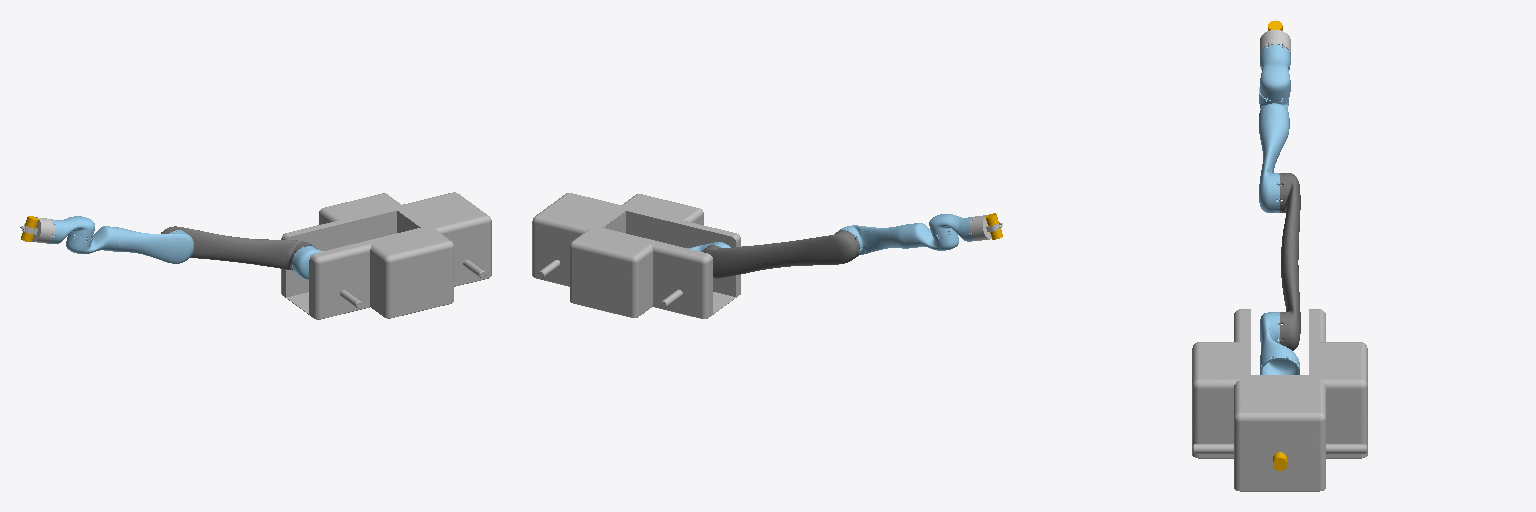
--- What the picture shows (computed from the rendered views, not written in the file) ---
The picture shows the robot from 3 angles, left to right: view 1: azimuth 30°, elevation 25°; view 2: azimuth 150°, elevation 25°; view 3: azimuth 270°, elevation 25°; orthographic projection.
Model mira with 17 links and 16 joints (5 revolute, 5 continuous, 6 fixed), rooted at base_link, posed all joints at 0.
Visible links, largest first — view 1: mobile_base_chassis, kinova_link2, kinova_link3, kinova_link4, kinova_link5; view 2: mobile_base_chassis, kinova_link2, kinova_link3, kinova_link4, kinova_link5; view 3: mobile_base_chassis, kinova_link2, kinova_link3, kinova_link1, kinova_link5.
Boxes of the visible links, box(x1,y1,x2,y2) form: mobile_base_chassis: box(281, 192, 491, 319); kinova_link2: box(161, 226, 316, 270); kinova_link3: box(113, 227, 193, 263); kinova_link4: box(66, 226, 120, 253); kinova_link5: box(47, 216, 94, 243); mobile_base_chassis: box(532, 193, 740, 318); kinova_link2: box(702, 230, 859, 278); kinova_link3: box(839, 224, 910, 256); kinova_link4: box(905, 223, 958, 250); kinova_link5: box(929, 214, 975, 241); mobile_base_chassis: box(1192, 309, 1367, 491); kinova_link2: box(1280, 173, 1300, 350); kinova_link3: box(1259, 112, 1289, 212); kinova_link1: box(1260, 312, 1299, 374); kinova_link5: box(1260, 44, 1290, 100).
Bounding box of the posed robot: 1.38 × 0.36 × 0.4471 m (x, y, z).
Meshes: 9 distinct files referenced, 7 mesh visuals loaded (6 binary STL); not drawn: 5 (reference not matched to a file when rendering).

URDF robot description (mira):
<?xml version="1.0" ?>
<!-- =================================================================================== -->
<!-- |    This document was autogenerated by xacro from mira.xacro                     | -->
<!-- |    EDITING THIS FILE BY HAND IS NOT RECOMMENDED                                 | -->
<!-- =================================================================================== -->
<robot name="mira">
  <link name="mobile_base_base_link"/>
  <joint name="mobile_base_base_link_to_base" type="fixed">
    <parent link="mobile_base_base_link"/>
    <child link="mobile_base_chassis"/>
    <origin rpy="1.5707963267948966 0 0" xyz="0 0 0"/>
  </joint>
  <link name="mobile_base_chassis">
    <visual>
      <origin rpy="0 -0 0" xyz="0 0 0"/>
      <geometry>
        <mesh filename="package://sps/urdf/mobile_base_models/chassis.stl"/>
      </geometry>
      <material name="chassis_material">
        <color rgba="0.74902 0.74902 0.74902 1.0"/>
      </material>
    </visual>
    <collision>
      <geometry>
        <mesh filename="package://sps/urdf/mobile_base_models/chassis.stl"/>
      </geometry>
    </collision>
    <inertial>
      <origin rpy="0 0 0" xyz="3.03885e-10 0.0866061 -4.21983e-12"/>
      <mass value="22"/>
      <inertia ixx="0.254" ixy="-1.648e-9" ixz="-2.434e-08" iyy="0.656" iyz="3.684e-10" izz="0.532"/>
    </inertial>
  </link>
  <gazebo reference="mobile_base_chassis">
    <material>Gazebo/DarkGrey</material>
  </gazebo>
  <joint name="mobile_base_joint_front_dx" type="continuous">
    <origin rpy="0 0 0" xyz="0.183 0.06 0.1355"/>
    <parent link="mobile_base_chassis"/>
    <child link="mobile_base_omniwheel_front_dx"/>
    <axis xyz="0 0 1"/>
    <limit effort="1" velocity="20"/>
    <joint_properties friction="0.0"/>
  </joint>
  <link name="mobile_base_omniwheel_front_dx">
    <visual>
      <origin rpy="3.141592653589793 0 0" xyz="0 0 0"/>
      <geometry>
        <mesh filename="package://sps/urdf/mobile_base_models/omniwheel_A.stl"/>
      </geometry>
    </visual>
    <collision>
      <origin rpy="3.141592653589793 0 0" xyz="0 0 0"/>
      <geometry>
        <cylinder length="0.08" radius="0.076"/>
      </geometry>
    </collision>
    <inertial>
      <origin rpy="0 1.5707963267948966 0" xyz="0 0 0"/>
      <mass value="3.5"/>
      <inertia ixx="0.006920666666666667" ixy="0" ixz="0" iyx="0" iyy="0.006920666666666667" iyz="0" izx="0" izy="0" izz="0.010108"/>
    </inertial>
  </link>
  <gazebo reference="mobile_base_omniwheel_front_dx">
    <material>Gazebo/Orange</material>
  </gazebo>
  <joint name="mobile_base_joint_front_sx" type="continuous">
    <origin rpy="0 0 0" xyz="0.183 0.06 -0.1355"/>
    <parent link="mobile_base_chassis"/>
    <child link="mobile_base_omniwheel_front_sx"/>
    <axis xyz="0 0 1"/>
    <limit effort="1" velocity="20"/>
    <joint_properties friction="0.0"/>
  </joint>
  <link name="mobile_base_omniwheel_front_sx">
    <visual>
      <origin rpy="3.141592653589793 0 0" xyz="0 0 0"/>
      <geometry>
        <mesh filename="package://sps/urdf/mobile_base_models/omniwheel_B.stl"/>
      </geometry>
    </visual>
    <collision>
      <origin rpy="3.141592653589793 0 0" xyz="0 0 0"/>
      <geometry>
        <cylinder length="0.08" radius="0.076"/>
      </geometry>
    </collision>
    <inertial>
      <origin rpy="0 1.5707963267948966 0" xyz="0 0 0"/>
      <mass value="3.5"/>
      <inertia ixx="0.006920666666666667" ixy="0" ixz="0" iyx="0" iyy="0.006920666666666667" iyz="0" izx="0" izy="0" izz="0.010108"/>
    </inertial>
  </link>
  <gazebo reference="mobile_base_omniwheel_front_sx">
    <material>Gazebo/Orange</material>
  </gazebo>
  <joint name="mobile_base_joint_rear_sx" type="continuous">
    <origin rpy="0 0 0" xyz="-0.183 0.06 -0.1355"/>
    <parent link="mobile_base_chassis"/>
    <child link="mobile_base_omniwheel_rear_sx"/>
    <axis xyz="0 0 1"/>
    <limit effort="1" velocity="20"/>
    <joint_properties friction="0.0"/>
  </joint>
  <link name="mobile_base_omniwheel_rear_sx">
    <visual>
      <origin rpy="3.141592653589793 0 0" xyz="0 0 0"/>
      <geometry>
        <mesh filename="package://sps/urdf/mobile_base_models/omniwheel_A.stl"/>
      </geometry>
    </visual>
    <collision>
      <origin rpy="3.141592653589793 0 0" xyz="0 0 0"/>
      <geometry>
        <cylinder length="0.08" radius="0.076"/>
      </geometry>
    </collision>
    <inertial>
      <origin rpy="0 1.5707963267948966 0" xyz="0 0 0"/>
      <mass value="3.5"/>
      <inertia ixx="0.006920666666666667" ixy="0" ixz="0" iyx="0" iyy="0.006920666666666667" iyz="0" izx="0" izy="0" izz="0.010108"/>
    </inertial>
  </link>
  <gazebo reference="mobile_base_omniwheel_rear_sx">
    <material>Gazebo/Orange</material>
  </gazebo>
  <joint name="mobile_base_joint_rear_dx" type="continuous">
    <origin rpy="0 0 0" xyz="-0.183 0.06 0.1355"/>
    <parent link="mobile_base_chassis"/>
    <child link="mobile_base_omniwheel_rear_dx"/>
    <axis xyz="0 0 1"/>
    <limit effort="1" velocity="20"/>
    <joint_properties friction="0.0"/>
  </joint>
  <link name="mobile_base_omniwheel_rear_dx">
    <visual>
      <origin rpy="3.141592653589793 0 0" xyz="0 0 0"/>
      <geometry>
        <mesh filename="package://sps/urdf/mobile_base_models/omniwheel_B.stl"/>
      </geometry>
    </visual>
    <collision>
      <origin rpy="3.141592653589793 0 0" xyz="0 0 0"/>
      <geometry>
        <cylinder length="0.08" radius="0.076"/>
      </geometry>
    </collision>
    <inertial>
      <origin rpy="0 1.5707963267948966 0" xyz="0 0 0"/>
      <mass value="3.5"/>
      <inertia ixx="0.006920666666666667" ixy="0" ixz="0" iyx="0" iyy="0.006920666666666667" iyz="0" izx="0" izy="0" izz="0.010108"/>
    </inertial>
  </link>
  <gazebo reference="mobile_base_omniwheel_rear_dx">
    <material>Gazebo/Orange</material>
  </gazebo>
  <joint name="mobile_base_camera_joint" type="fixed">
    <origin rpy="0 0 0" xyz="0.26 0 0.075"/>
    <parent link="mobile_base_base_link"/>
    <child link="mobile_base_camera_rgb_frame"/>
  </joint>
  <link name="mobile_base_camera_rgb_frame">
    <visual>
      <origin rpy="0 1.5707963267948966 0" xyz="0 0 0"/>
      <geometry>
        <cylinder length="0.062" radius="0.015"/>
      </geometry>
      <material name="Camera_color">
        <color rgba="0.980392 0.713725 0.00392157 1.0"/>
      </material>
    </visual>
    <collision>
      <origin rpy="0 1.5707963267948966 0" xyz="0 0 0"/>
      <geometry>
        <cylinder length="0.062" radius="0.03"/>
      </geometry>
    </collision>
  </link>
  <gazebo reference="mobile_base_camera_rgb_frame">
    <material>Gazebo/Orange</material>
  </gazebo>
  <gazebo>
    <plugin filename="libgazebo_ros_planar_move.so" name="robot_controller">
      <commandTopic>cmd_vel</commandTopic>
      <odometryTopic>odom</odometryTopic>
      <odometryFrame>odom</odometryFrame>
      <odometryRate>20.0</odometryRate>
      <robotBaseFrame>base_link</robotBaseFrame>
    </plugin>
  </gazebo>
  <gazebo reference="mobile_base_camera_rgb_frame">
    <sensor name="camera" type="camera">
      <update_rate>30.0</update_rate>
      <camera name="head">
        <horizontal_fov>1.97222</horizontal_fov>
        <image>
          <width>1920</width>
          <height>1080</height>
          <format>R8G8B8</format>
        </image>
        <clip>
          <near>0.02</near>
          <far>100</far>
        </clip>
        <noise>
          <type>gaussian</type>
          <mean>0.0</mean>
          <stddev>0.007</stddev>
        </noise>
      </camera>
      <plugin filename="libgazebo_ros_camera.so" name="camera_controller">
        <alwaysOn>true</alwaysOn>
        <updateRate>0.0</updateRate>
        <cameraName>mobile_base_camera</cameraName>
        <imageTopicName>mobile_base_image_raw</imageTopicName>
        <cameraInfoTopicName>mobile_base_camera_info</cameraInfoTopicName>
        <frameName>mobile_base_camera_rgb_optical_frame</frameName>
        <hackBaseline>0.07</hackBaseline>
        <distortionK1>-0.35925741</distortionK1>
        <distortionK2>0.16575977</distortionK2>
        <distortionK3>-0.03662964</distortionK3>
        <distortionT1>0.00264587</distortionT1>
        <distortionT2>0.00037099</distortionT2>
      </plugin>
    </sensor>
  </gazebo>
  <!-- Bumpers -->
  <gazebo reference="mobile_base_chassis">
    <sensor name="mobile_base_chassis_bumper" type="contact">
      <alwaysOn>true</alwaysOn>
      <updateRate>30.0</updateRate>
      <contact>
        <collision>base_link_fixed_joint_lump__mobile_base_chassis_collision</collision>
      </contact>
      <plugin filename="libgazebo_ros_bumper.so" name="gazebo_ros_bumper_controller">
        <bumperTopicName>bumper</bumperTopicName>
        <frameName>world</frameName>
        <updateRate>30.0</updateRate>
      </plugin>
    </sensor>
  </gazebo>
  <gazebo reference="mobile_base_omniwheel_front_dx">
    <sensor name="mobile_base_omniwheel_front_dx_collision_bumper" type="contact">
      <alwaysOn>true</alwaysOn>
      <updateRate>30.0</updateRate>
      <contact>
        <collision>mobile_base_omniwheel_front_dx_collision</collision>
      </contact>
      <plugin filename="libgazebo_ros_bumper.so" name="gazebo_ros_bumper_controller">
        <bumperTopicName>bumper</bumperTopicName>
        <frameName>world</frameName>
        <updateRate>30.0</updateRate>
      </plugin>
    </sensor>
  </gazebo>
  <gazebo reference="mobile_base_omniwheel_front_sx">
    <sensor name="mobile_base_omniwheel_front_sx_collision_bumper" type="contact">
      <alwaysOn>true</alwaysOn>
      <updateRate>30.0</updateRate>
      <contact>
        <collision>mobile_base_omniwheel_front_sx_collision</collision>
      </contact>
      <plugin filename="libgazebo_ros_bumper.so" name="gazebo_ros_bumper_controller">
        <bumperTopicName>bumper</bumperTopicName>
        <frameName>world</frameName>
        <updateRate>30.0</updateRate>
      </plugin>
    </sensor>
  </gazebo>
  <gazebo reference="mobile_base_omniwheel_rear_dx">
    <sensor name="mobile_base_omniwheel_rear_dx_collision_bumper" type="contact">
      <alwaysOn>true</alwaysOn>
      <updateRate>30.0</updateRate>
      <contact>
        <collision>mobile_base_omniwheel_rear_dx_collision</collision>
      </contact>
      <plugin filename="libgazebo_ros_bumper.so" name="gazebo_ros_bumper_controller">
        <bumperTopicName>bumper</bumperTopicName>
        <frameName>world</frameName>
        <updateRate>30.0</updateRate>
      </plugin>
    </sensor>
  </gazebo>
  <gazebo reference="mobile_base_omniwheel_rear_sx">
    <sensor name="mobile_base_omniwheel_rear_sx_collision_bumper" type="contact">
      <alwaysOn>true</alwaysOn>
      <updateRate>30.0</updateRate>
      <contact>
        <collision>mobile_base_omniwheel_rear_sx_collision</collision>
      </contact>
      <plugin filename="libgazebo_ros_bumper.so" name="gazebo_ros_bumper_controller">
        <bumperTopicName>bumper</bumperTopicName>
        <frameName>world</frameName>
        <updateRate>30.0</updateRate>
      </plugin>
    </sensor>
  </gazebo>
  <!-- The following is an handmade document. Please refer to the official repository at https://github.com/Kinovarobotics/kinova-ros/blob/master/kinova_description/urdf/j2s6s200_standalone.xacro -->
  <link name="kinova_base_link"/>
  <joint name="kinova_base_link_to_base" type="fixed">
    <parent link="kinova_base_link"/>
    <child link="kinova_link0"/>
    <origin rpy="0 0 0" xyz="0 0 0"/>
  </joint>
  <link name="kinova_link0">
    <visual>
      <origin rpy="0 0 0" xyz="0 0 0"/>
      <geometry>
        <mesh filename="package://sps/urdf/kinova_models/link0.stl"/>
      </geometry>
      <material name="link0_material">
        <color rgba="0.972549 0.529412 0.00392157 1"/>
      </material>
    </visual>
    <collision>
      <origin rpy="0 0 0" xyz="0 0 0"/>
      <geometry>
        <mesh filename="package://sps/urdf/kinova_models/link0.stl"/>
      </geometry>
      <material name="link0_material">
        <color rgba="0.972549 0.529412 0.00392157 1"/>
      </material>
    </collision>
    <inertial>
      <origin rpy="0 0 0" xyz="0 0 0.07825"/>
      <mass value="0.46784"/>
      <inertia ixx="0.0009512746666666666" ixy="0" ixz="0" iyx="0" iyy="0.0009512746666666666" iyz="0" izx="0" izy="0" izz="0.00037427200000000004"/>
    </inertial>
  </link>
  <gazebo reference="kinova_link0">
    <material>Gazebo/Indigo</material>
  </gazebo>
  <joint name="kinova_joint1" type="revolute">
    <origin rpy="0 0 0" xyz="0 0 0.1565"/>
    <parent link="kinova_link0"/>
    <child link="kinova_link1"/>
    <axis xyz="0 0 1"/>
    <limit effort="1" lower="-3.141592653589793" torque="40" upper="3.141592653589793" velocity="0.6283185307179586"/>
    <joint_properties friction="0"/>
  </joint>
  <link name="kinova_link1">
    <visual>
      <origin rpy="0 -1.5707963267948966 0" xyz="0 0 0"/>
      <geometry>
        <mesh filename="package://sps/urdf/kinova_models/link1.stl"/>
      </geometry>
      <material name="link1_material">
        <color rgba="0.615686 0.811765 0.929412 1"/>
      </material>
    </visual>
    <collision>
      <origin rpy="0 -1.5707963267948966 0" xyz="0 0 0"/>
      <geometry>
        <mesh filename="package://sps/urdf/kinova_models/link1.stl"/>
      </geometry>
      <material name="link1_material">
        <color rgba="0.615686 0.811765 0.929412 1"/>
      </material>
    </collision>
    <inertial>
      <origin xyz="0 0.0007 0.05925"/>
      <mass value="0.7477"/>
      <inertia ixx="0.0015203233333333334" ixy="0" ixz="0" iyx="0" iyy="0.0015203233333333334" iyz="0" izx="0" izy="0" izz="0.00059816"/>
    </inertial>
  </link>
  <gazebo reference="kinova_link1">
    <material>Gazebo/Indigo</material>
  </gazebo>
  <joint name="kinova_joint2" type="revolute">
    <origin rpy="0 -1.5707963267948966 0" xyz="0 0.0015 0.1185"/>
    <parent link="kinova_link1"/>
    <child link="kinova_link2"/>
    <axis xyz="0 0 1"/>
    <limit effort="1" lower="-3.141592653589793" torque="80" upper="3.141592653589793" velocity="0.6283185307179586"/>
    <joint_properties friction="0.0"/>
  </joint>
  <link name="kinova_link2">
    <visual>
      <origin rpy="-1.5707963267948966 -1.5707963267948966 1.5707963267948966" xyz="0 0 0"/>
      <geometry>
        <mesh filename="package://sps/urdf/kinova_models/link2.stl"/>
      </geometry>
      <material name="link2_material">
        <color rgba="0.498039 0.498039 0.498039 1.0"/>
      </material>
    </visual>
    <collision>
      <origin rpy="-1.5707963267948966 -1.5707963267948966 1.5707963267948966" xyz="0 0 0"/>
      <geometry>
        <mesh filename="package://sps/urdf/kinova_models/link2.stl"/>
      </geometry>
      <material name="link2_material">
        <color rgba="0.498039 0.498039 0.498039 1.0"/>
      </material>
    </collision>
    <inertial>
      <origin rpy="-1.5707963267948966 -1.5707963267948966 1.5707963267948966" xyz="0.205 0 0"/>
      <mass value="0.99"/>
      <inertia ixx="0.01050225" ixy="0" ixz="0" iyx="0" iyy="0.01050225" iyz="0" izx="0" izy="0" izz="0.0007920000000000001"/>
    </inertial>
  </link>
  <gazebo reference="kinova_link2">
    <material>Gazebo/Indigo</material>
  </gazebo>
  <joint name="kinova_joint3" type="revolute">
    <origin rpy="0 0 0" xyz="0.41 0 0"/>
    <parent link="kinova_link2"/>
    <child link="kinova_link3"/>
    <axis xyz="0 0 1"/>
    <limit effort="1" lower="-3.141592653589793" torque="40" upper="3.141592653589793" velocity="0.6283185307179586"/>
    <joint_properties friction="0.0"/>
  </joint>
  <link name="kinova_link3">
    <visual>
      <origin rpy="3.141592653589793 1.5707963267948966 0" xyz="0 0 0"/>
      <geometry>
        <mesh filename="package://sps/urdf/kinova_models/link3.stl"/>
      </geometry>
      <material name="link3_material">
        <color rgba="0.615686 0.811765 0.929412 1.0"/>
      </material>
    </visual>
    <collision>
      <origin rpy="3.141592653589793 1.5707963267948966 0" xyz="0 0 0"/>
      <geometry>
        <mesh filename="package://sps/urdf/kinova_models/link3.stl"/>
      </geometry>
      <material name="link3_material">
        <color rgba="0.615686 0.811765 0.929412 1.0"/>
      </material>
    </collision>
    <inertial>
      <origin rpy="3.141592653589793 1.5707963267948966 0" xyz="0.1035 0  -0.005625"/>
      <mass value="0.6763"/>
      <inertia ixx="0.0014202300000000002" ixy="0" ixz="0" iyx="0" iyy="0.0014202300000000002" iyz="0" izx="0" izy="0" izz="0.000304335"/>
    </inertial>
  </link>
  <gazebo reference="kinova_link3">
    <material>Gazebo/Indigo</material>
  </gazebo>
  <joint name="kinova_joint4" type="revolute">
    <origin rpy="0 1.5707963267948966 0" xyz="0.207 0  -0.01125"/>
    <parent link="kinova_link3"/>
    <child link="kinova_link4"/>
    <axis xyz="0 0 1"/>
    <limit effort="1" lower="-3.141592653589793" torque="20" upper="3.141592653589793" velocity="0.8377580409572781"/>
    <joint_properties friction="0.0"/>
  </joint>
  <link name="kinova_link4">
    <visual>
      <origin rpy="0 -1.5707963267948966 0" xyz="0 0 0"/>
      <geometry>
        <mesh filename="package://sps/urdf/kinova_models/link4.stl"/>
      </geometry>
      <material name="link4_material">
        <color rgba="0.615686 0.811765 0.929412 1.0"/>
      </material>
    </visual>
    <collision>
      <origin rpy="0 -1.5707963267948966 0" xyz="0 0 0"/>
      <geometry>
        <mesh filename="package://sps/urdf/kinova_models/link4.stl"/>
      </geometry>
      <material name="link4_material">
        <color rgba="0.615686 0.811765 0.929412 1.0"/>
      </material>
    </collision>
    <inertial>
      <origin rpy="0 0 0" xyz="-0.00125 0 0.04825"/>
      <mass value="0.463"/>
      <inertia ixx="0.00043213333333333345" ixy="0" ixz="0" iyx="0" iyy="0.00043213333333333345" iyz="0" izx="0" izy="0" izz="9.260000000000001e-05"/>
    </inertial>
  </link>
  <gazebo reference="kinova_link4">
    <material>Gazebo/Indigo</material>
  </gazebo>
  <joint name="kinova_joint5" type="continuous">
    <origin rpy="-1.5707963267948966 -1.5707963267948966 0" xyz="-0.0025 0 0.0965"/>
    <parent link="kinova_link4"/>
    <child link="kinova_link5"/>
    <axis xyz="0 0 1"/>
    <limit effort="1" lower="-3.141592653589793" torque="20" upper="3.141592653589793" velocity="0.8377580409572781"/>
    <joint_properties friction="0.0"/>
  </joint>
  <link name="kinova_link5">
    <visual>
      <origin rpy="-1.5707963267948966 0 3.141592653589793" xyz="0.0965 0 0"/>
      <geometry>
        <mesh filename="package://sps/urdf/kinova_models/link4.stl"/>
      </geometry>
      <material name="link4_material">
        <color rgba="0.615686 0.811765 0.929412 1.0"/>
      </material>
    </visual>
    <collision>
      <origin rpy="-1.5707963267948966 0 3.141592653589793" xyz="0.0965 0 0"/>
      <geometry>
        <mesh filename="package://sps/urdf/kinova_models/link4.stl"/>
      </geometry>
      <material name="link4_material">
        <color rgba="0.615686 0.811765 0.929412 1.0"/>
      </material>
    </collision>
    <inertial>
      <origin rpy="0 1.5707963267948966 0" xyz="0.05175 0 0.000125"/>
      <mass value="0.463"/>
      <inertia ixx="0.00043213333333333345" ixy="0" ixz="0" iyx="0" iyy="0.00043213333333333345" iyz="0" izx="0" izy="0" izz="9.260000000000001e-05"/>
    </inertial>
  </link>
  <gazebo reference="kinova_link5">
    <material>Gazebo/Indigo</material>
  </gazebo>
  <joint name="kinova_joint6" type="revolute">
    <origin rpy="1.5707963267948966 0 1.5707963267948966" xyz="0.101 0 0.00025"/>
    <parent link="kinova_link5"/>
    <child link="kinova_link6"/>
    <axis xyz="0 0 1"/>
    <limit effort="1" lower="-3.141592653589793" torque="20" upper="3.141592653589793" velocity="0.8377580409572781"/>
    <joint_properties friction="0.0"/>
  </joint>
  <link name="kinova_link6">
    <visual>
      <origin rpy="0 0 0" xyz="0 0 0"/>
      <geometry>
        <mesh filename="package://sps/urdf/kinova_models/link6.stl"/>
      </geometry>
      <material name="armsuppaxis001_(solid)_material">
        <color rgba="0.8 0.8 0.8 1.0"/>
      </material>
    </visual>
    <collision>
      <origin rpy="0 0 0" xyz="0 0 0"/>
      <geometry>
        <mesh filename="package://sps/urdf/kinova_models/link6.stl"/>
      </geometry>
      <material name="armsuppaxis001_(solid)_material">
        <color rgba="0.8 0.8 0.8 1.0"/>
      </material>
    </collision>
    <inertial>
      <origin rpy="0 0 0" xyz="0 0 0.032347"/>
      <mass value="0.059265"/>
      <inertia ixx="2.97358e-05" ixy="-5.33355e-13" ixz="-1.85073e-09" iyy="3.04484e-05" iyz="-4.08259e-11" izz="3.72715e-05"/>
    </inertial>
  </link>
  <gazebo reference="kinova_link6">
    <material>Gazebo/White</material>
  </gazebo>
  <joint name="kinova_camera_joint" type="fixed">
    <origin rpy="0 0 1.5707963267948966" xyz="0 0.03 0.058"/>
    <parent link="kinova_link6"/>
    <child link="kinova_camera_rgb_frame"/>
  </joint>
  <link name="kinova_camera_rgb_frame">
    <visual>
      <origin rpy="0 1.5707963267948966 0" xyz="-0.03 0 0"/>
      <geometry>
        <cylinder length="0.062" radius="0.015"/>
      </geometry>
      <material name="Camera_color">
        <color rgba="0.980392 0.713725 0.00392157 1.0"/>
      </material>
    </visual>
    <collision>
      <origin rpy="0 1.5707963267948966 0" xyz="-0.03 0 0"/>
      <geometry>
        <cylinder length="0.062" radius="0.03"/>
      </geometry>
    </collision>
  </link>
  <gazebo reference="kinova_camera_rgb_frame">
    <material>Gazebo/Orange</material>
  </gazebo>
  <gazebo reference="kinova_link0">
    <selfCollide>true</selfCollide>
  </gazebo>
  <gazebo reference="kinova_link1">
    <selfCollide>true</selfCollide>
  </gazebo>
  <gazebo reference="kinova_link2">
    <selfCollide>true</selfCollide>
  </gazebo>
  <gazebo reference="kinova_link3">
    <selfCollide>true</selfCollide>
  </gazebo>
  <gazebo reference="kinova_link4">
    <selfCollide>true</selfCollide>
  </gazebo>
  <gazebo reference="kinova_link5">
    <selfCollide>true</selfCollide>
  </gazebo>
  <gazebo reference="kinova_link6">
    <selfCollide>true</selfCollide>
  </gazebo>
  <!-- Camera -->
  <gazebo reference="kinova_camera_rgb_frame">
    <sensor name="camera" type="camera">
      <update_rate>30.0</update_rate>
      <camera name="head">
        <horizontal_fov>1.97222</horizontal_fov>
        <image>
          <width>1920</width>
          <height>1080</height>
          <format>R8G8B8</format>
        </image>
        <clip>
          <near>0.02</near>
          <far>100</far>
        </clip>
        <noise>
          <type>gaussian</type>
          <mean>0.0</mean>
          <stddev>0.007</stddev>
        </noise>
      </camera>
      <plugin filename="libgazebo_ros_camera.so" name="camera_controller">
        <alwaysOn>true</alwaysOn>
        <updateRate>0.0</updateRate>
        <cameraName>kinova_camera</cameraName>
        <imageTopicName>kinova_image_raw</imageTopicName>
        <cameraInfoTopicName>kinova_camera_info</cameraInfoTopicName>
        <frameName>kinova_camera_rgb_optical_frame</frameName>
        <hackBaseline>0.07</hackBaseline>
        <distortionK1>-0.35925741</distortionK1>
        <distortionK2>0.16575977</distortionK2>
        <distortionK3>-0.03662964</distortionK3>
        <distortionT1>0.00264587</distortionT1>
        <distortionT2>0.00037099</distortionT2>
      </plugin>
    </sensor>
  </gazebo>
  <!-- Bumpers -->
  <gazebo reference="kinova_link0">
    <sensor name="kinova_link0_bumper" type="contact">
      <alwaysOn>true</alwaysOn>
      <updateRate>30.0</updateRate>
      <contact>
        <collision>base_link_fixed_joint_lump__kinova_link0_collision_1</collision>
      </contact>
      <plugin filename="libgazebo_ros_bumper.so" name="gazebo_ros_bumper_controller">
        <bumperTopicName>bumper</bumperTopicName>
        <frameName>world</frameName>
        <updateRate>30.0</updateRate>
      </plugin>
    </sensor>
  </gazebo>
  <gazebo reference="kinova_link1">
    <sensor name="kinova_link1_bumper" type="contact">
      <alwaysOn>true</alwaysOn>
      <updateRate>30.0</updateRate>
      <contact>
        <collision>kinova_link1_collision</collision>
      </contact>
      <plugin filename="libgazebo_ros_bumper.so" name="gazebo_ros_bumper_controller">
        <bumperTopicName>bumper</bumperTopicName>
        <frameName>world</frameName>
        <updateRate>30.0</updateRate>
      </plugin>
    </sensor>
  </gazebo>
  <gazebo reference="kinova_link2">
    <sensor name="kinova_link2_bumper" type="contact">
      <alwaysOn>true</alwaysOn>
      <updateRate>30.0</updateRate>
      <contact>
        <collision>kinova_link2_collision</collision>
      </contact>
      <plugin filename="libgazebo_ros_bumper.so" name="gazebo_ros_bumper_controller">
        <bumperTopicName>bumper</bumperTopicName>
        <frameName>world</frameName>
        <updateRate>30.0</updateRate>
      </plugin>
    </sensor>
  </gazebo>
  <gazebo reference="kinova_link3">
    <sensor name="kinova_link3_bumper" type="contact">
      <alwaysOn>true</alwaysOn>
      <updateRate>30.0</updateRate>
      <contact>
        <collision>kinova_link3_collision</collision>
      </contact>
      <plugin filename="libgazebo_ros_bumper.so" name="gazebo_ros_bumper_controller">
        <bumperTopicName>bumper</bumperTopicName>
        <frameName>world</frameName>
        <updateRate>30.0</updateRate>
      </plugin>
    </sensor>
  </gazebo>
  <gazebo reference="kinova_link4">
    <sensor name="kinova_link4_bumper" type="contact">
      <alwaysOn>true</alwaysOn>
      <updateRate>30.0</updateRate>
      <contact>
        <collision>kinova_link4_collision</collision>
      </contact>
      <plugin filename="libgazebo_ros_bumper.so" name="gazebo_ros_bumper_controller">
        <bumperTopicName>bumper</bumperTopicName>
        <frameName>world</frameName>
        <updateRate>30.0</updateRate>
      </plugin>
    </sensor>
  </gazebo>
  <gazebo reference="kinova_link5">
    <sensor name="kinova_link5_bumper" type="contact">
      <alwaysOn>true</alwaysOn>
      <updateRate>30.0</updateRate>
      <contact>
        <collision>kinova_link5_collision</collision>
      </contact>
      <plugin filename="libgazebo_ros_bumper.so" name="gazebo_ros_bumper_controller">
        <bumperTopicName>bumper</bumperTopicName>
        <frameName>world</frameName>
        <updateRate>30.0</updateRate>
      </plugin>
    </sensor>
  </gazebo>
  <gazebo reference="kinova_link6">
    <sensor name="kinova_link6_bumper" type="contact">
      <alwaysOn>true</alwaysOn>
      <updateRate>30.0</updateRate>
      <contact>
        <collision>kinova_link6_collision</collision>
      </contact>
      <plugin filename="libgazebo_ros_bumper.so" name="gazebo_ros_bumper_controller">
        <bumperTopicName>bumper</bumperTopicName>
        <frameName>world</frameName>
        <updateRate>30.0</updateRate>
      </plugin>
    </sensor>
  </gazebo>
  <!-- Controller -->
  <gazebo>
    <plugin filename="libgazebo_ros_control.so" name="gazebo_ros_control">
		</plugin>
  </gazebo>
  <transmission name="kinova_joint1_trans">
    <type>transmission_interface/SimpleTransmission</type>
    <joint name="kinova_joint1">
      <hardwareInterface>hardware_interface/PositionJointInterface</hardwareInterface>
    </joint>
    <actuator name="kinova_joint1_motor">
      <hardwareInterface>hardware_interface/PositionJointInterface</hardwareInterface>
      <mechanicalReduction>1</mechanicalReduction>
    </actuator>
  </transmission>
  <transmission name="kinova_joint2_trans">
    <type>transmission_interface/SimpleTransmission</type>
    <joint name="kinova_joint2">
      <hardwareInterface>hardware_interface/PositionJointInterface</hardwareInterface>
    </joint>
    <actuator name="kinova_joint2_motor">
      <hardwareInterface>hardware_interface/PositionJointInterface</hardwareInterface>
      <mechanicalReduction>1</mechanicalReduction>
    </actuator>
  </transmission>
  <transmission name="kinova_joint3_trans">
    <type>transmission_interface/SimpleTransmission</type>
    <joint name="kinova_joint3">
      <hardwareInterface>hardware_interface/PositionJointInterface</hardwareInterface>
    </joint>
    <actuator name="kinova_joint3_motor">
      <hardwareInterface>hardware_interface/PositionJointInterface</hardwareInterface>
      <mechanicalReduction>1</mechanicalReduction>
    </actuator>
  </transmission>
  <transmission name="kinova_joint4_trans">
    <type>transmission_interface/SimpleTransmission</type>
    <joint name="kinova_joint4">
      <hardwareInterface>hardware_interface/PositionJointInterface</hardwareInterface>
    </joint>
    <actuator name="kinova_joint4_motor">
      <hardwareInterface>hardware_interface/PositionJointInterface</hardwareInterface>
      <mechanicalReduction>1</mechanicalReduction>
    </actuator>
  </transmission>
  <transmission name="kinova_joint5_trans">
    <type>transmission_interface/SimpleTransmission</type>
    <joint name="kinova_joint5">
      <hardwareInterface>hardware_interface/PositionJointInterface</hardwareInterface>
    </joint>
    <actuator name="kinova_joint5_motor">
      <hardwareInterface>hardware_interface/PositionJointInterface</hardwareInterface>
      <mechanicalReduction>1</mechanicalReduction>
    </actuator>
  </transmission>
  <transmission name="kinova_joint6_trans">
    <type>transmission_interface/SimpleTransmission</type>
    <joint name="kinova_joint6">
      <hardwareInterface>hardware_interface/PositionJointInterface</hardwareInterface>
    </joint>
    <actuator name="kinova_joint6_motor">
      <hardwareInterface>hardware_interface/PositionJointInterface</hardwareInterface>
      <mechanicalReduction>1</mechanicalReduction>
    </actuator>
  </transmission>
  <link name="base_link"/>
  <joint name="basejoining" type="fixed">
    <parent link="base_link"/>
    <child link="mobile_base_base_link"/>
    <origin rpy="0 0 0" xyz="0 0 0"/>
  </joint>
  <joint name="joining" type="fixed">
    <parent link="mobile_base_chassis"/>
    <child link="kinova_base_link"/>
    <origin rpy="-0.331613 -1.57 0" xyz="0.021 0.037667 0"/>
  </joint>
</robot>
